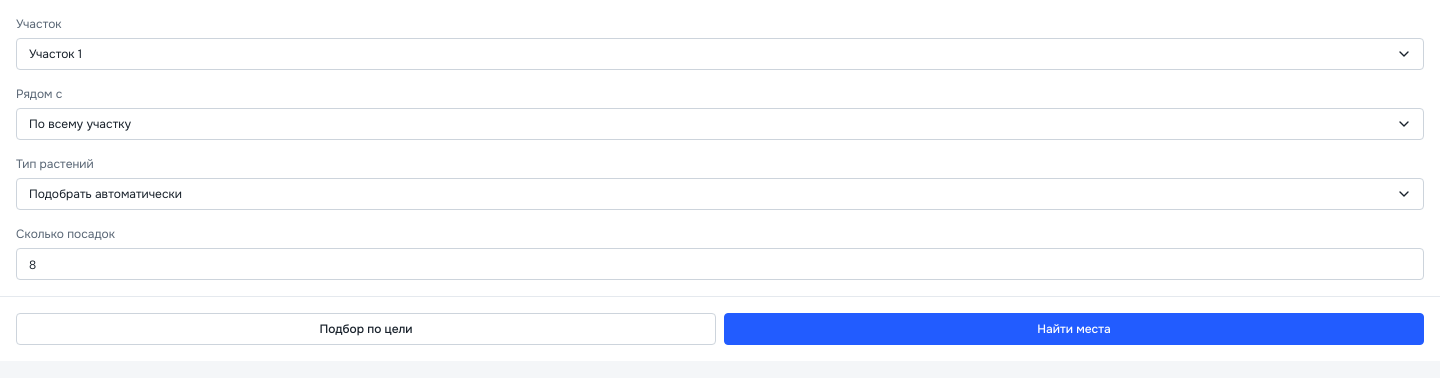
Test: AutomaticPlacementPanel › shows a completed search with zero positions without another request
What coordinates should you click on to do the following:
click the button "Найти места"
I would click on:
 (1074, 329)
Its box is [724,313,1424,345].
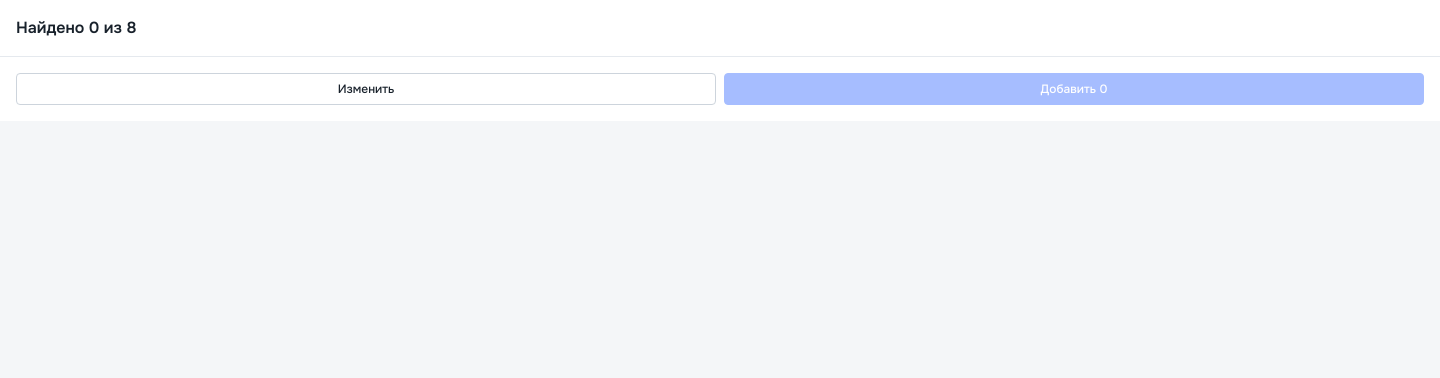
Expected: the heading "Найдено 0 из 8" is shown, [16,17,136,38]
Expected: the button "Добавить 0" is disabled, [724,73,1424,105]
